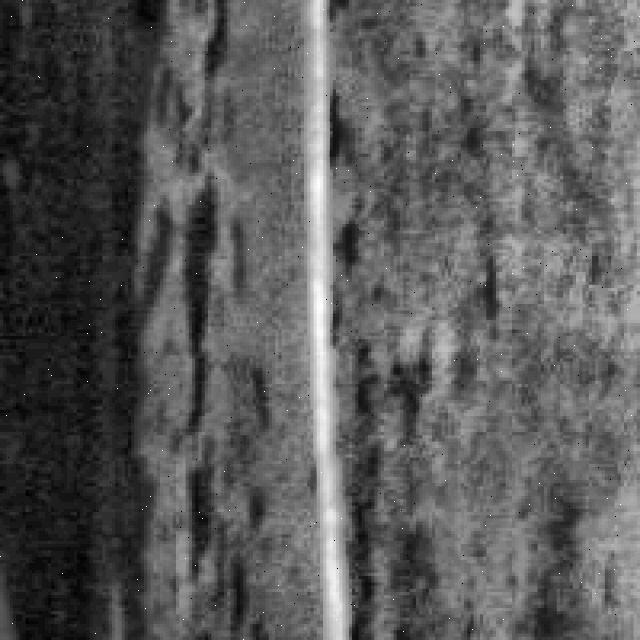Inclusion: (298, 0, 362, 634)
Patches: (9, 0, 240, 627)
